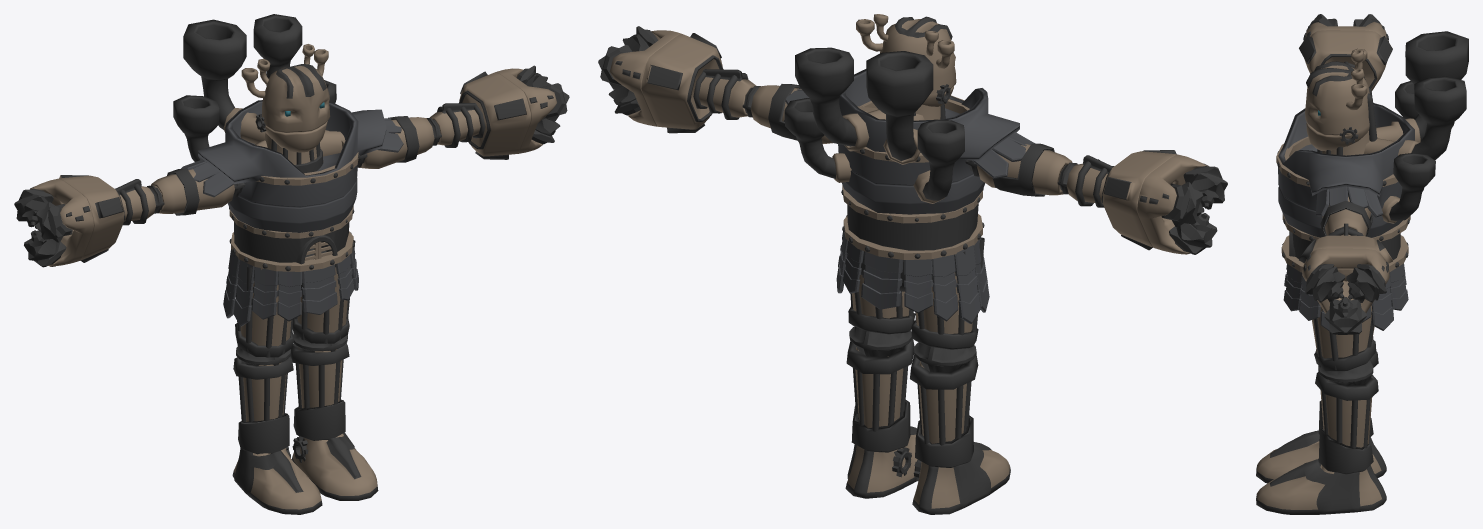
File: SteamGolemParented.fbx
The picture shows the model from 3 angles, left to right: view 1: azimuth 30°, elevation 25°; view 2: azimuth 150°, elevation 25°; view 3: azimuth 270°, elevation 25°; orthographic projection. The views are drawn at different scales.
Parts seen in each view (by area): view 1: Torso, pCylinder4, LArm3_LArm_LArmLower_LDrill_Drill_group71_group61_pCylinder5, LArm2_LArm_LArmLower_LDrill_Drill_group71_group61_pCylinder5, pCylinder3, LLeg3_LLeg_group52_pCylinder6, LLeg2_LLeg_group52_pCylinder6, LLeg3_group75_pCube60, LLeg2_group75_pCube60, UpperArmR, LLeg3_LLeg_LegUpper_pCylinder5, UpperArmL (+4 smaller); view 2: Torso, pCylinder4, LArm3_LArm_LArmLower_LDrill_Drill_group71_group61_pCylinder5, LArm2_LArm_LArmLower_LDrill_Drill_group71_group61_pCylinder5, LLeg2_LLeg_group52_pCylinder6, LLeg3_LLeg_group52_pCylinder6, LLeg3_group75_pCube60, pCylinder3, LLeg2_group75_pCube60, UpperArmR, LArm2_LArm_LArmLower_pTorus1, LLeg3_LLeg_LegUpper_pCylinder5 (+3 smaller); view 3: Torso, LArm2_LArm_LArmLower_LDrill_Drill_group71_group61_pCylinder5, LLeg2_LLeg_group52_pCylinder6, pCylinder3, LLeg2_group75_pCube60, pCylinder4, LArm3_LArm_LArmLower_LDrill_Drill_group71_group61_pCylinder5, LLeg2_LLeg_LegUpper_pCylinder5, LLeg3_group75_pCube60, UpperArmL, neck, LArm2_LArm_LArmLower_pTorus1 (+1 smaller).
Part boxes in pixels (<box>): Torso: <box>173,14,403,238</box>; pCylinder4: <box>223,221,358,326</box>; LArm3_LArm_LArmLower_LDrill_Drill_group71_group61_pCylinder5: <box>14,175,124,267</box>; LArm2_LArm_LArmLower_LDrill_Drill_group71_group61_pCylinder5: <box>459,65,569,159</box>; pCylinder3: <box>241,44,330,152</box>; LLeg3_LLeg_group52_pCylinder6: <box>233,346,293,454</box>; LLeg2_LLeg_group52_pCylinder6: <box>290,333,349,440</box>; LLeg3_group75_pCube60: <box>232,447,322,514</box>; LLeg2_group75_pCube60: <box>291,432,378,500</box>; UpperArmR: <box>151,169,245,215</box>; LLeg3_LLeg_LegUpper_pCylinder5: <box>233,255,294,357</box>; UpperArmL: <box>357,116,434,168</box>; Torso: <box>784,47,1035,223</box>; pCylinder4: <box>836,203,989,323</box>; LArm3_LArm_LArmLower_LDrill_Drill_group71_group61_pCylinder5: <box>1102,150,1227,254</box>; LArm2_LArm_LArmLower_LDrill_Drill_group71_group61_pCylinder5: <box>598,26,722,133</box>; LLeg2_LLeg_group52_pCylinder6: <box>846,326,914,452</box>; LLeg3_LLeg_group52_pCylinder6: <box>910,342,978,467</box>; LLeg3_group75_pCube60: <box>912,442,1010,514</box>; pCylinder3: <box>856,14,956,115</box>; LLeg2_group75_pCube60: <box>845,426,917,498</box>; UpperArmR: <box>965,143,1072,196</box>; LArm2_LArm_LArmLower_pTorus1: <box>693,69,760,119</box>; LLeg3_LLeg_LegUpper_pCylinder5: <box>911,237,984,349</box>; Torso: <box>1276,31,1468,241</box>; LArm2_LArm_LArmLower_LDrill_Drill_group71_group61_pCylinder5: <box>1299,235,1392,334</box>; LLeg2_LLeg_group52_pCylinder6: <box>1315,359,1378,474</box>; pCylinder3: <box>1305,48,1377,151</box>; LLeg2_group75_pCube60: <box>1256,459,1386,514</box>; pCylinder4: <box>1281,231,1408,331</box>; LArm3_LArm_LArmLower_LDrill_Drill_group71_group61_pCylinder5: <box>1299,14,1392,91</box>; LLeg2_LLeg_LegUpper_pCylinder5: <box>1312,305,1376,371</box>; LLeg3_group75_pCube60: <box>1256,430,1386,483</box>; UpperArmL: <box>1320,196,1373,236</box>; neck: <box>1317,130,1369,155</box>; LArm2_LArm_LArmLower_pTorus1: <box>1328,223,1363,281</box>.
Size of the model in its own units: 225 by 171 by 76.8.
